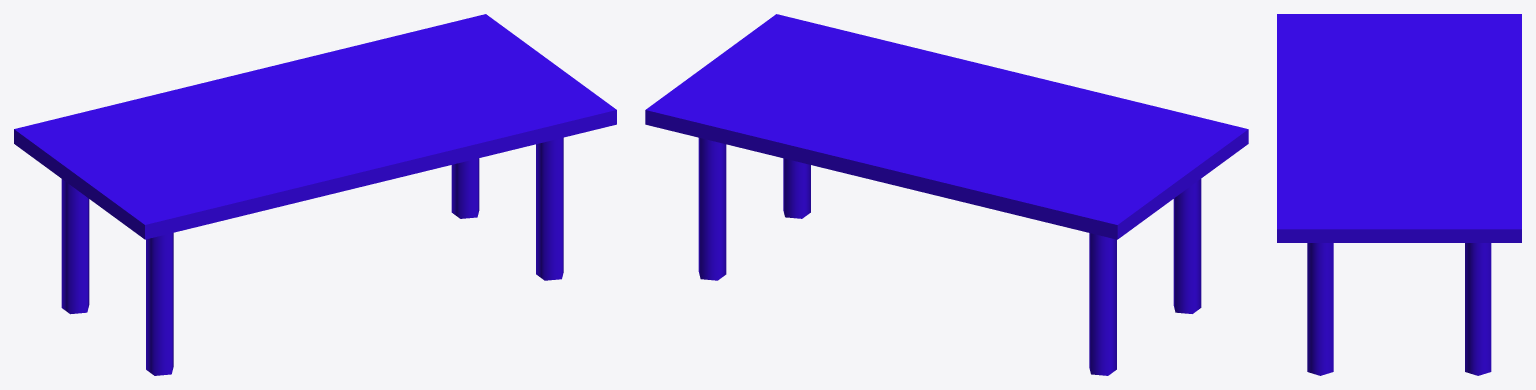
The model's file is office_pack_table_large_4_meshCollider.fbx.
3 renders of one model, left to right at view 1: azimuth 30°, elevation 25°; view 2: azimuth 150°, elevation 25°; view 3: azimuth 270°, elevation 25°, orthographic. The views are drawn at different scales.
Visible parts, largest first — view 1: office_pack_table_4_meshCollider; view 2: office_pack_table_4_meshCollider; view 3: office_pack_table_4_meshCollider.
Boxes of the visible parts, box(x1,y1,x2,y2) form: office_pack_table_4_meshCollider: box(14, 14, 616, 375); office_pack_table_4_meshCollider: box(645, 14, 1248, 375); office_pack_table_4_meshCollider: box(1277, 14, 1521, 375).
Bounding box in the file's own units: 125 × 43.61 × 60.32.
